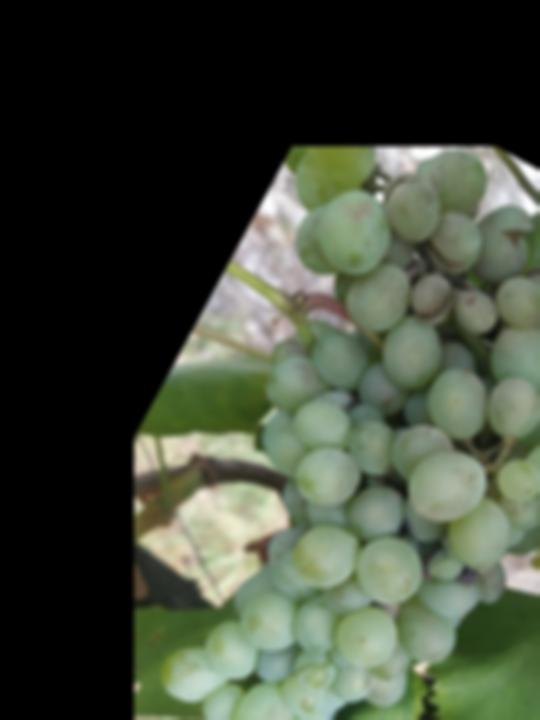grape: (44, 94, 540, 720)
